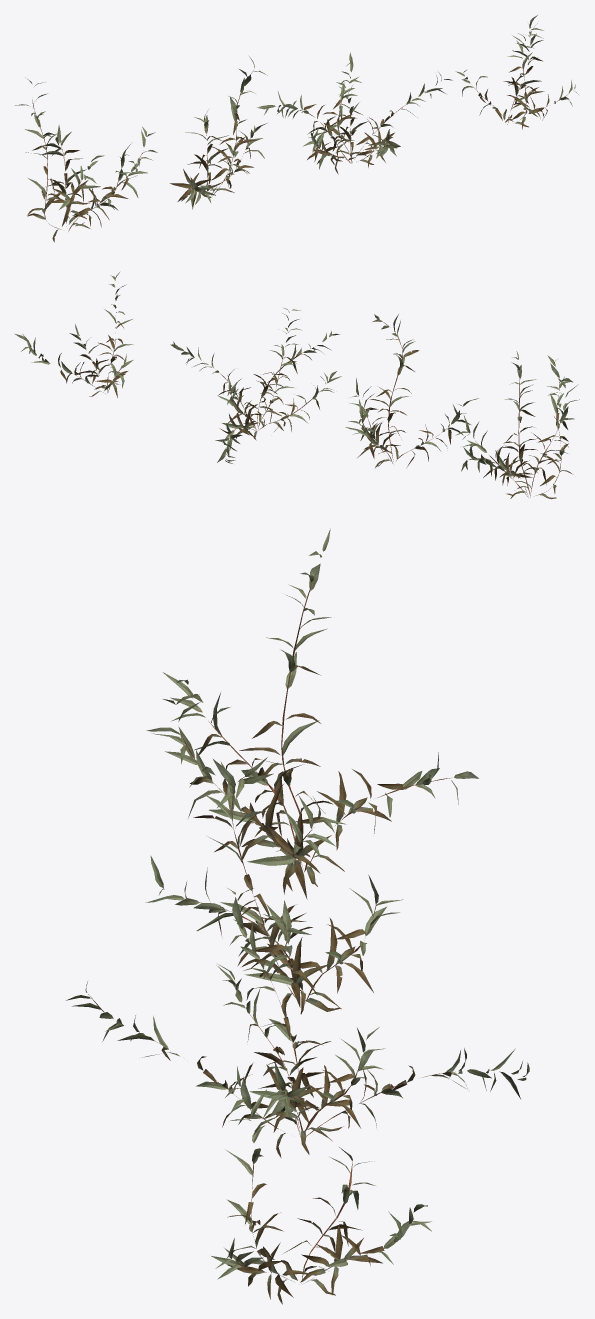
File: shrub_02.glb
3 views of the same model, one above another, from view 1: azimuth 30°, elevation 25°; view 2: azimuth 150°, elevation 25°; view 3: azimuth 270°, elevation 25° (orthographic). The views are drawn at different scales.
Size of the model in its own units: 6.05 by 1.7 by 2.29.
Materials: 1 (1 with a texture image).
